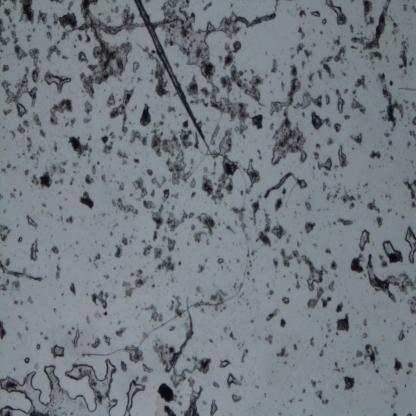Air bubble: (0, 358, 118, 415), (122, 380, 145, 416), (45, 72, 72, 94), (404, 226, 416, 264), (326, 0, 343, 17), (382, 239, 398, 256), (29, 238, 39, 262), (361, 228, 370, 252), (336, 94, 346, 115), (52, 344, 65, 358), (226, 372, 236, 387), (73, 329, 80, 349), (219, 359, 231, 368), (310, 10, 321, 18), (16, 235, 23, 244), (24, 357, 30, 365), (36, 342, 41, 350), (322, 19, 327, 25)
Background material: (134, 2, 206, 144), (162, 0, 238, 79), (81, 31, 133, 98), (270, 78, 308, 165), (365, 252, 416, 302), (211, 76, 250, 134), (0, 70, 38, 118), (375, 71, 404, 131), (200, 161, 235, 205), (221, 68, 264, 103), (292, 249, 326, 291), (110, 86, 134, 133), (183, 376, 203, 414), (152, 59, 171, 99), (49, 97, 74, 126), (122, 269, 147, 297), (152, 338, 174, 369), (256, 209, 272, 249), (292, 92, 324, 110), (151, 130, 171, 158), (195, 212, 216, 238), (243, 157, 260, 188), (219, 123, 234, 157), (166, 210, 188, 233), (68, 136, 89, 160), (52, 12, 78, 31), (154, 383, 178, 403), (310, 110, 332, 131), (79, 0, 99, 23), (306, 286, 324, 311), (219, 41, 235, 69), (118, 197, 140, 217), (142, 304, 165, 323), (403, 176, 416, 209), (191, 354, 212, 374), (360, 1, 376, 26), (320, 54, 336, 79), (362, 343, 378, 368), (131, 175, 147, 200), (155, 255, 176, 274), (135, 43, 157, 61), (91, 288, 108, 311), (19, 1, 35, 25), (175, 152, 190, 177), (185, 74, 200, 99), (398, 41, 409, 75), (140, 101, 153, 128), (166, 160, 179, 185), (152, 203, 164, 230), (130, 128, 148, 146), (340, 190, 357, 209), (272, 219, 287, 240), (350, 253, 365, 274), (336, 144, 349, 168), (350, 98, 367, 116), (168, 296, 182, 317), (124, 350, 145, 364), (0, 16, 10, 45), (170, 370, 186, 388), (79, 191, 95, 209), (179, 132, 195, 150), (45, 45, 61, 63), (29, 47, 42, 68), (101, 135, 114, 156), (354, 73, 369, 91), (210, 288, 228, 303), (336, 314, 351, 332), (280, 249, 293, 269), (121, 7, 135, 25), (250, 110, 263, 129), (252, 200, 261, 227), (30, 146, 45, 162), (206, 398, 221, 414), (264, 307, 280, 322), (14, 45, 28, 62), (170, 139, 182, 158), (334, 46, 346, 65), (348, 132, 364, 146), (40, 171, 53, 188), (343, 375, 356, 392), (336, 215, 354, 227), (117, 149, 129, 167), (366, 200, 381, 214), (193, 230, 208, 244), (367, 50, 384, 62), (190, 99, 210, 109), (350, 36, 370, 46), (389, 251, 404, 264), (0, 224, 11, 241), (318, 159, 332, 172), (392, 355, 402, 373), (275, 346, 290, 358), (407, 295, 416, 315), (332, 360, 344, 375), (167, 236, 177, 254), (163, 404, 178, 416), (32, 112, 43, 128), (76, 51, 88, 65), (36, 11, 48, 25), (231, 389, 243, 403), (368, 148, 382, 160), (334, 299, 344, 315), (115, 325, 127, 338), (26, 217, 38, 230), (321, 296, 332, 310), (225, 224, 236, 238), (142, 199, 156, 210), (269, 58, 278, 75), (25, 135, 33, 154), (289, 63, 299, 78), (305, 221, 315, 236), (240, 348, 249, 364), (202, 0, 214, 12), (119, 358, 128, 374), (142, 363, 154, 375), (308, 71, 316, 89), (83, 100, 93, 114), (274, 198, 284, 212), (0, 320, 7, 340), (232, 206, 242, 220), (113, 244, 122, 259), (392, 20, 401, 35), (64, 117, 76, 128), (200, 87, 212, 98), (84, 174, 95, 186), (152, 247, 162, 260), (106, 94, 116, 107), (332, 188, 342, 201), (0, 278, 10, 291), (380, 253, 388, 269), (11, 28, 19, 44), (3, 6, 12, 20), (375, 214, 384, 228), (102, 333, 111, 347), (332, 34, 341, 48), (233, 40, 242, 54), (405, 361, 414, 375), (153, 119, 164, 130), (298, 8, 308, 20), (304, 47, 314, 59), (351, 360, 366, 368), (92, 251, 102, 263), (91, 338, 101, 350), (296, 42, 306, 54), (196, 263, 206, 275), (12, 280, 22, 292), (334, 122, 344, 134), (142, 244, 152, 256), (157, 175, 166, 188), (294, 271, 300, 290), (397, 86, 416, 92), (56, 263, 62, 282), (297, 26, 305, 40), (329, 258, 337, 272), (60, 160, 68, 174), (69, 284, 77, 298), (308, 334, 316, 348), (264, 334, 274, 345), (83, 114, 93, 125), (49, 162, 59, 173), (1, 107, 13, 116), (17, 123, 26, 135), (303, 199, 312, 211), (181, 118, 190, 130), (162, 188, 169, 203), (391, 384, 398, 399), (132, 60, 140, 73), (10, 187, 18, 200), (194, 284, 204, 294), (166, 104, 176, 114), (65, 214, 75, 224), (313, 390, 323, 400), (338, 16, 348, 26), (101, 272, 112, 281), (326, 135, 335, 146), (327, 280, 334, 294), (151, 230, 158, 244), (31, 174, 39, 186), (324, 92, 332, 104), (67, 0, 74, 13), (228, 332, 238, 341), (216, 256, 225, 266), (44, 32, 53, 42), (51, 246, 60, 256), (94, 312, 103, 322), (84, 31, 90, 45), (52, 141, 59, 153), (326, 320, 332, 334), (189, 177, 196, 189), (121, 235, 128, 247), (90, 162, 96, 176), (110, 6, 119, 15), (104, 14, 113, 23), (282, 296, 291, 305), (280, 186, 288, 196), (118, 182, 126, 192), (110, 198, 118, 208), (146, 168, 154, 178), (312, 150, 320, 160), (0, 64, 10, 72), (279, 318, 287, 328), (11, 2, 18, 13), (28, 293, 34, 305), (54, 178, 63, 186), (8, 130, 16, 139), (407, 130, 416, 138), (212, 381, 221, 389), (384, 192, 393, 200), (300, 59, 308, 68), (408, 56, 414, 68), (344, 113, 352, 122), (316, 70, 322, 82), (26, 33, 32, 45), (16, 330, 22, 342), (280, 80, 285, 94), (320, 181, 327, 191), (188, 210, 195, 220), (33, 362, 40, 372), (109, 130, 116, 140), (310, 378, 317, 388), (190, 190, 197, 200), (272, 260, 279, 270), (398, 330, 405, 340), (406, 139, 412, 150), (101, 173, 107, 184), (287, 397, 295, 405), (168, 324, 176, 332), (62, 54, 70, 62), (71, 160, 79, 168), (362, 180, 369, 189), (23, 167, 30, 176), (133, 156, 140, 165), (40, 200, 47, 209), (23, 119, 30, 128), (141, 374, 148, 383), (349, 22, 354, 34), (150, 188, 156, 198), (274, 0, 279, 12), (292, 342, 298, 352), (87, 146, 92, 158), (257, 150, 263, 160), (57, 214, 63, 224), (411, 101, 416, 113), (4, 257, 10, 267), (171, 192, 178, 200), (321, 398, 329, 405), (44, 335, 51, 343), (151, 178, 158, 186), (16, 313, 23, 321), (208, 337, 215, 345), (23, 324, 30, 332), (112, 222, 119, 230), (361, 332, 368, 340), (403, 3, 408, 14), (319, 347, 324, 358), (362, 317, 367, 328), (246, 269, 251, 280), (411, 3, 416, 14), (315, 141, 321, 150), (18, 298, 24, 307), (290, 52, 296, 61), (352, 86, 357, 96), (69, 176, 74, 186), (325, 247, 332, 254), (190, 224, 197, 231), (86, 314, 90, 326), (343, 86, 349, 94), (334, 383, 340, 391), (350, 44, 358, 50), (40, 129, 46, 137), (265, 281, 271, 289), (0, 166, 6, 174), (250, 249, 255, 258), (326, 193, 331, 202), (233, 281, 238, 290), (412, 115, 416, 126), (206, 236, 210, 247), (249, 318, 255, 325), (388, 138, 394, 145), (268, 289, 274, 296), (102, 311, 109, 317), (200, 399, 207, 405), (77, 35, 83, 42), (162, 234, 166, 244), (52, 306, 57, 314), (18, 188, 22, 198), (389, 80, 394, 88), (389, 154, 394, 162), (296, 239, 300, 248), (66, 330, 72, 336), (6, 162, 12, 168), (301, 388, 307, 394), (387, 208, 393, 214), (141, 238, 146, 245), (14, 298, 18, 306), (39, 330, 44, 336), (109, 231, 114, 237), (12, 165, 17, 171), (170, 204, 175, 210), (2, 209, 8, 214), (87, 135, 92, 141), (0, 192, 3, 200), (151, 284, 155, 290), (178, 260, 182, 266)
Cellulose filter fibre: (60, 16, 180, 42), (164, 296, 193, 372), (264, 170, 308, 206), (372, 0, 392, 48), (0, 262, 44, 282), (233, 11, 277, 28)
Microfibre: (81, 85, 252, 358)
